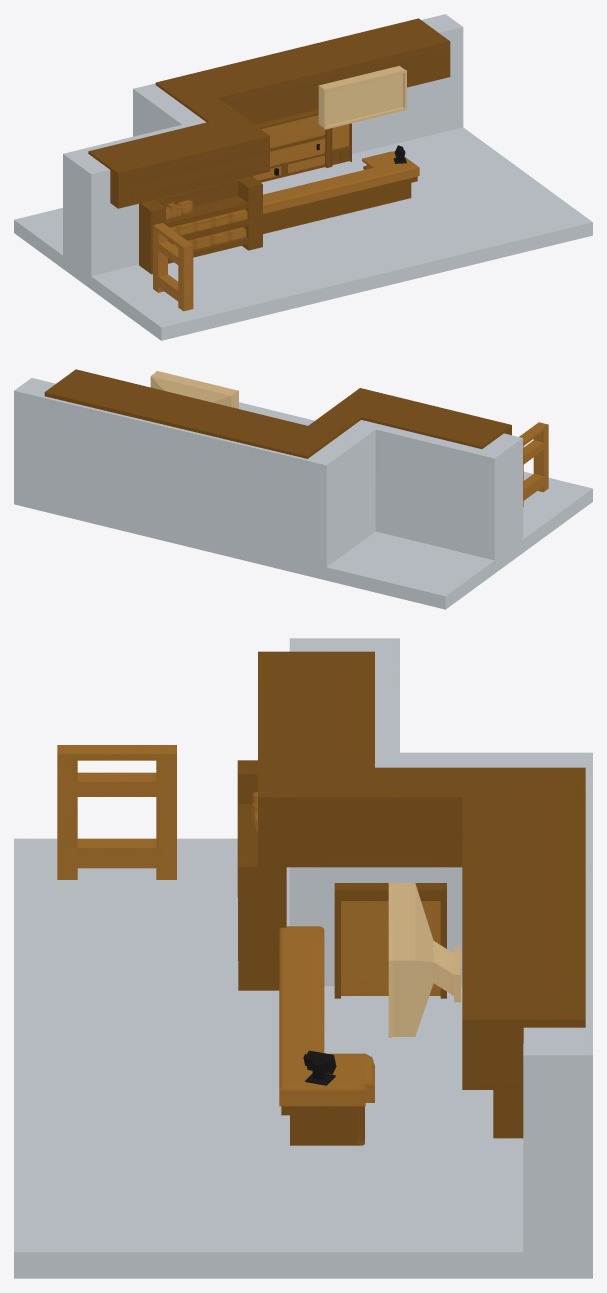
Rendered from aquarium-scene copy.glb.
The picture shows the model from 3 angles, top to bottom: view 1: azimuth 30°, elevation 25°; view 2: azimuth 150°, elevation 25°; view 3: azimuth 270°, elevation 25°; orthographic projection. The views are drawn at different scales.
Parts seen in each view (by area): view 1: Cube_Baked, Plane.003_Baked, Bookcase.001_Baked, Plane.036_Baked, Plane.039_Baked, Plane.012_Baked, Plane.035_Baked, Cube.003_Baked, Clothes Shelf_Baked, Cube.002_Baked, Book.005_Baked, Book.010_Baked (+1 smaller); view 2: Cube_Baked, Plane.003_Baked, Plane.036_Baked, Plane.035_Baked; view 3: Cube_Baked, Plane.003_Baked, Plane.035_Baked, Plane.039_Baked, Bookcase.001_Baked, Plane.036_Baked, Plane.040_Baked, Plane.012_Baked, Plane.004_Baked, Clothes Shelf.001_Baked, Plane.038_Baked.
Boxes of the visible parts, bbox=[...] form: Cube_Baked: bbox=[14, 14, 592, 340]; Plane.003_Baked: bbox=[88, 18, 450, 208]; Bookcase.001_Baked: bbox=[139, 176, 262, 274]; Plane.036_Baked: bbox=[318, 66, 406, 129]; Plane.039_Baked: bbox=[263, 151, 419, 213]; Plane.012_Baked: bbox=[263, 165, 417, 233]; Plane.035_Baked: bbox=[153, 223, 193, 311]; Cube.003_Baked: bbox=[261, 115, 325, 148]; Clothes Shelf_Baked: bbox=[255, 109, 330, 182]; Cube.002_Baked: bbox=[270, 138, 325, 165]; Book.005_Baked: bbox=[170, 209, 247, 235]; Book.010_Baked: bbox=[173, 227, 246, 249]; Cube_Baked: bbox=[14, 378, 592, 609]; Plane.003_Baked: bbox=[44, 369, 511, 458]; Plane.036_Baked: bbox=[150, 371, 238, 408]; Plane.035_Baked: bbox=[519, 422, 548, 506]; Cube_Baked: bbox=[14, 638, 592, 1278]; Plane.003_Baked: bbox=[258, 651, 585, 1089]; Plane.035_Baked: bbox=[57, 745, 176, 879]; Plane.039_Baked: bbox=[279, 926, 374, 1106]; Bookcase.001_Baked: bbox=[237, 760, 286, 990]; Plane.036_Baked: bbox=[388, 882, 460, 1037]; Plane.040_Baked: bbox=[341, 901, 440, 995]; Plane.012_Baked: bbox=[281, 1106, 364, 1145]; Plane.004_Baked: bbox=[334, 883, 446, 998]; Clothes Shelf.001_Baked: bbox=[493, 1090, 523, 1138]; Plane.038_Baked: bbox=[303, 1050, 336, 1085].
Size of the model in its own units: 174 by 45.31 by 103.
Materials: 2 (2 with a texture image).
